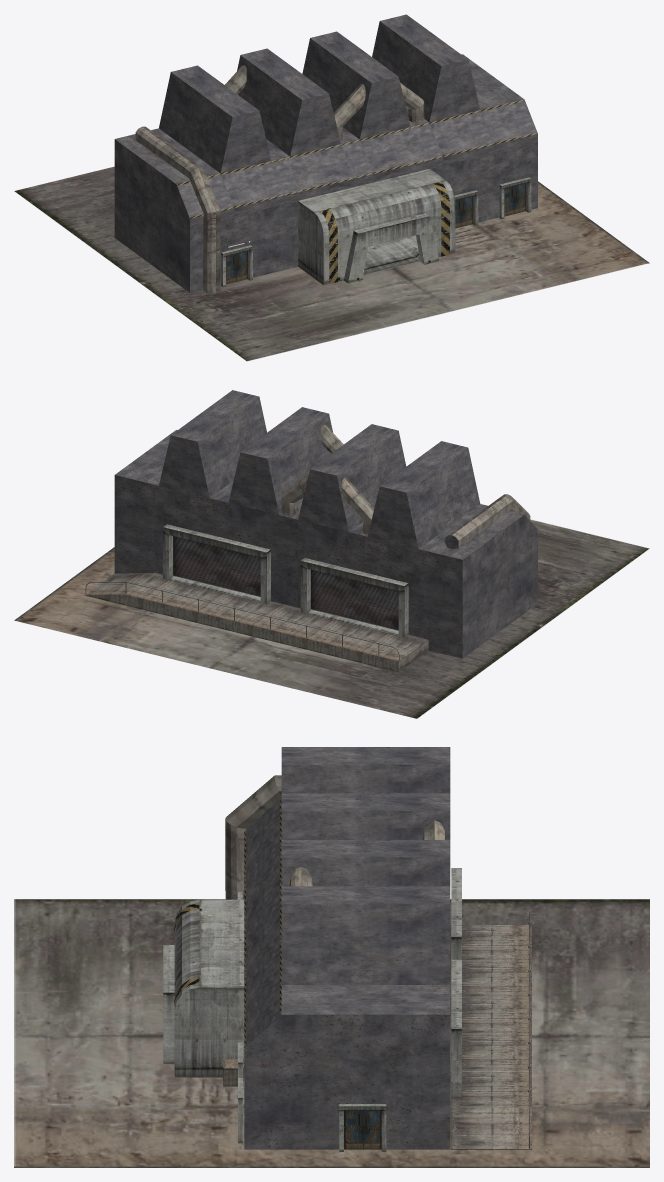
Rendered from Sifi-Building-Atlas.fbx.
The picture shows the model from 3 angles, top to bottom: view 1: azimuth 30°, elevation 25°; view 2: azimuth 150°, elevation 25°; view 3: azimuth 270°, elevation 25°; orthographic projection. The views are drawn at different scales.
Parts seen in each view (by area): view 1: Sci_Fi_Building; view 2: Sci_Fi_Building; view 3: Sci_Fi_Building.
Boxes of the visible parts, left/top/right/bottom form: Sci_Fi_Building: left=14, top=14, right=649, bottom=361; Sci_Fi_Building: left=14, top=390, right=649, bottom=718; Sci_Fi_Building: left=14, top=747, right=649, bottom=1167.
Bounding box in the file's own units: 3046 × 1109 × 3046.
1 material, 1 textured.
